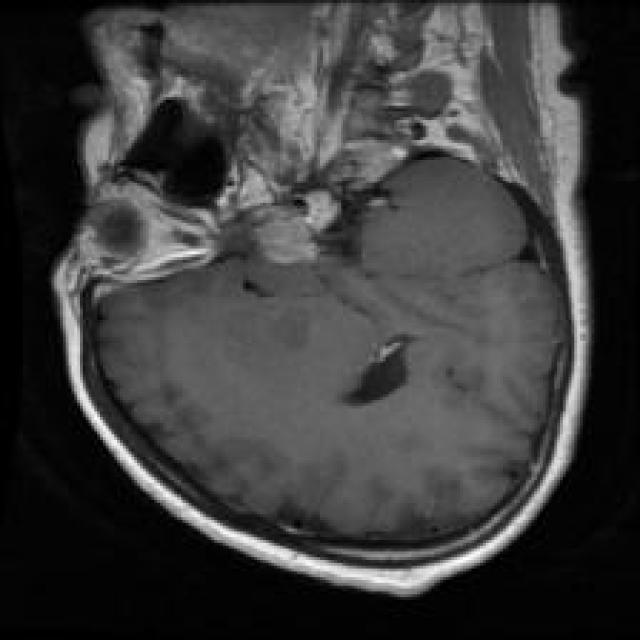pituitary_tumor: (230, 171, 352, 274)
